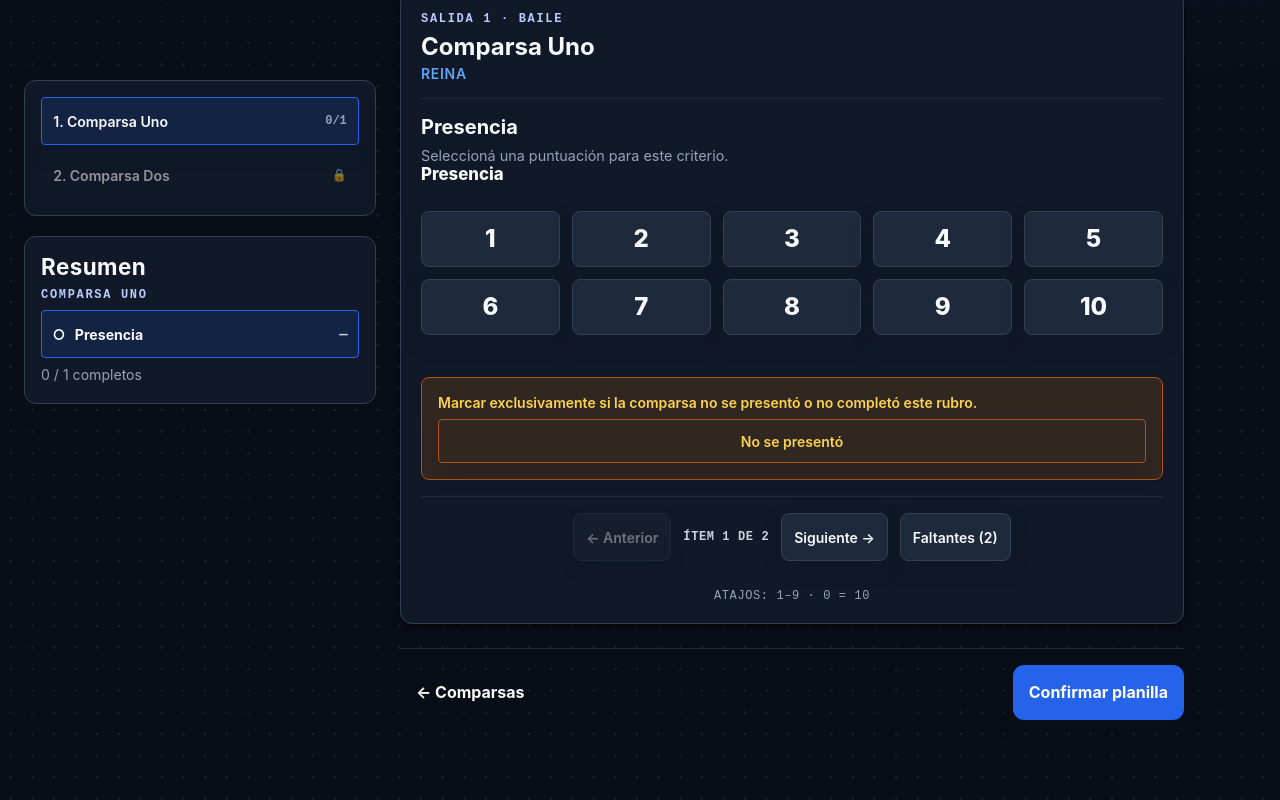
Test: JudgeBallotPage › muestra comparsa posterior como bloqueada en la barra lateral y en la lista (RF-190, RF-191)
(page scrolled)
expect the heading "Comparsa Uno" is shown: met, box [421, 32, 595, 61]
expect the button "2. Comparsa Dos 🔒" is disabled: met, box [41, 151, 359, 199]
// Modelo un-ítem-por-vez (Fase 1): la tarjeta bloqueada se ve al navegar al ítem
Click the button with aria-label "Ítem siguiente": x=834, y=537 [781, 513, 888, 561]
(page scrolled)
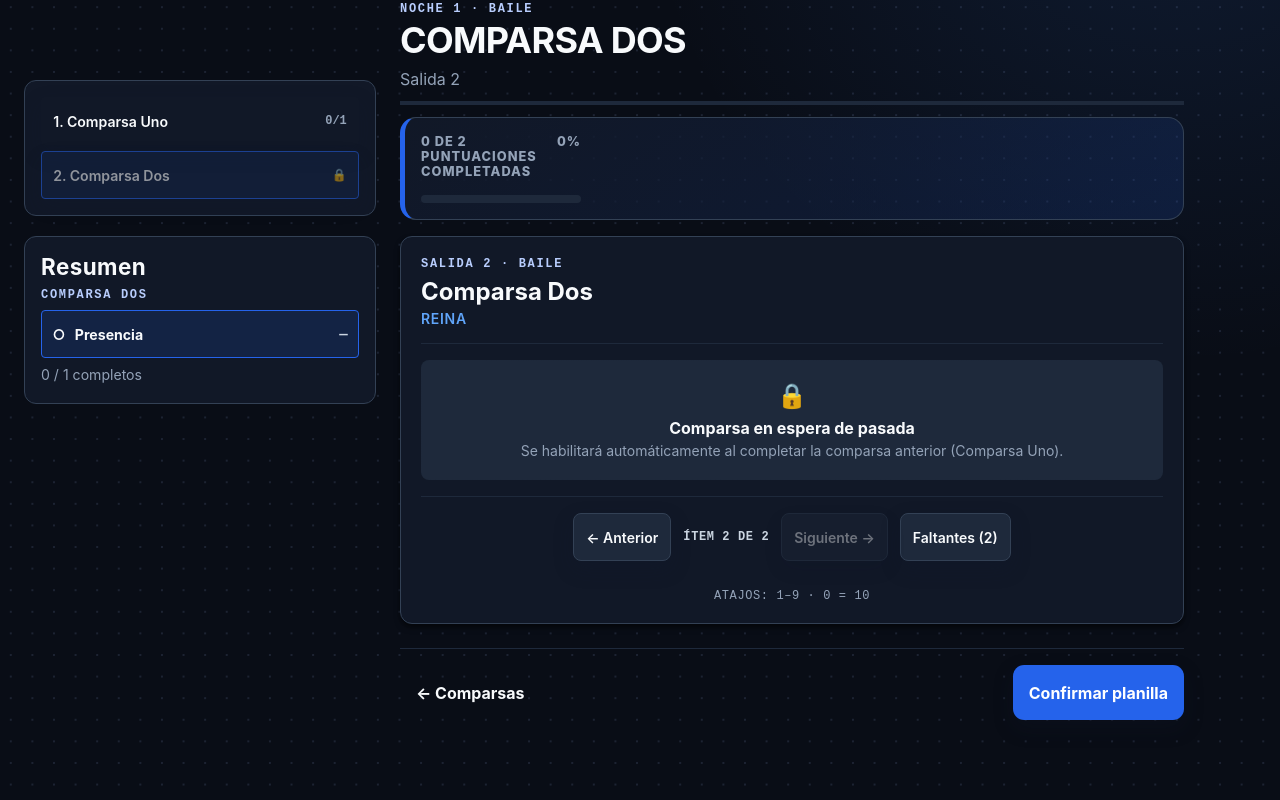
expect the text "Se habilitará automáticamente al completar la comparsa anterior (Comparsa Uno)" is shown: met, box [521, 442, 1063, 459]
